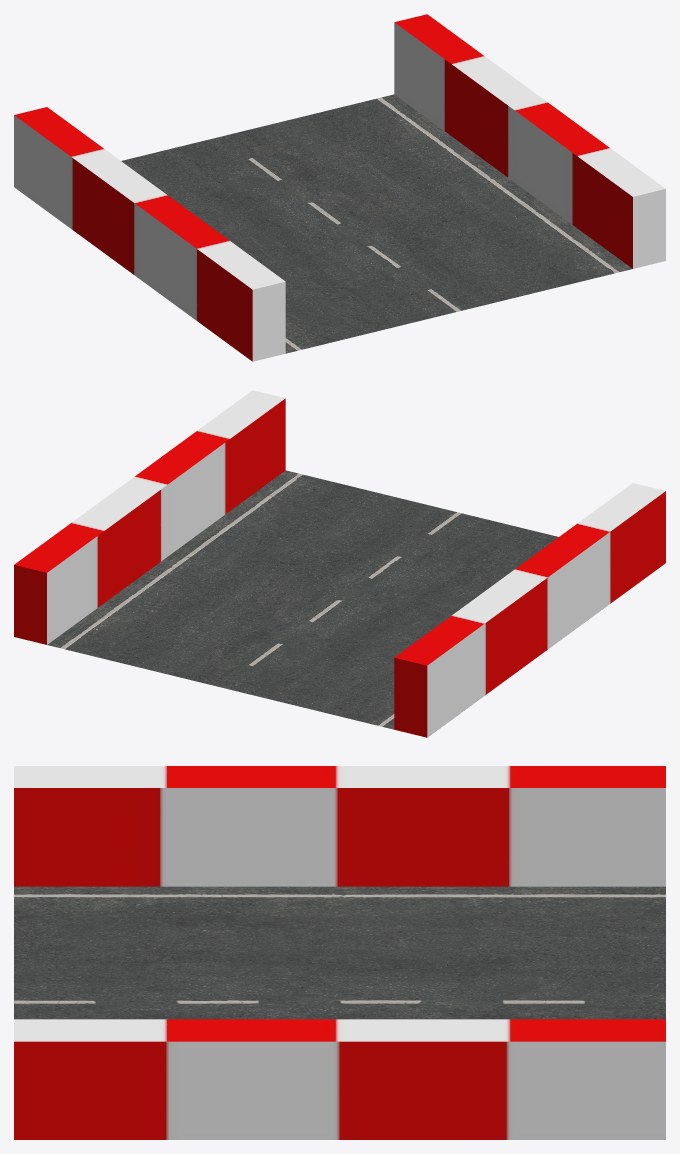
Rendered from straight.fbx.
3 renders of one model, top to bottom at view 1: azimuth 30°, elevation 25°; view 2: azimuth 150°, elevation 25°; view 3: azimuth 270°, elevation 25°, orthographic. The views are drawn at different scales.
Visible parts, largest first — view 1: Plane.020; view 2: Plane.020; view 3: Plane.020.
Boxes of the visible parts, box(x1,y1,x2,y2) form: Plane.020: box(14, 14, 665, 361); Plane.020: box(14, 390, 665, 737); Plane.020: box(14, 766, 665, 1139).
Bounding box in the file's own units: 600 × 100 × 600.
